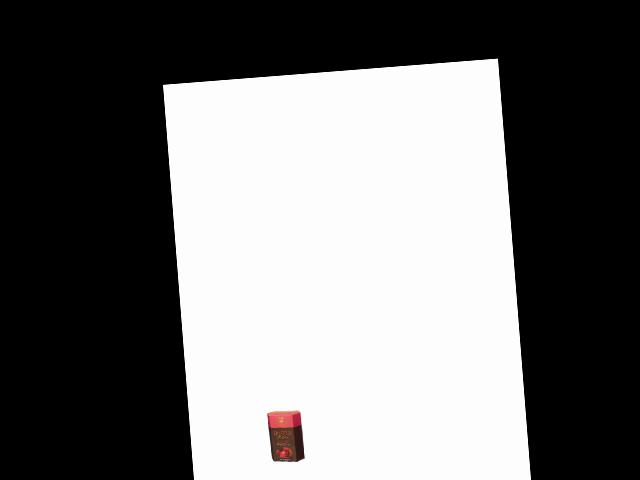chocolate: (266, 407, 306, 468)
